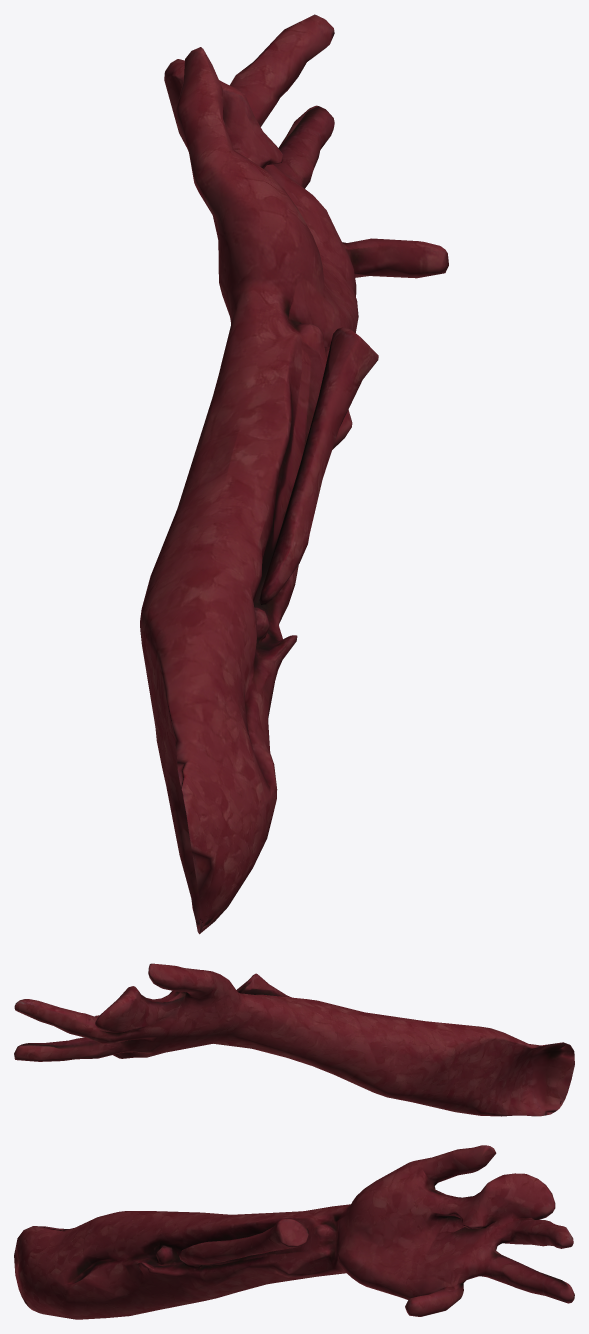
Rendered from severed_arm.glb.
3 renders of one model, top to bottom at view 1: azimuth 30°, elevation 25°; view 2: azimuth 150°, elevation 25°; view 3: azimuth 270°, elevation 25°, orthographic. The views are drawn at different scales.
Size of the model in its own units: 1.39 by 1.04 by 1.9.
1 material, 1 textured.
